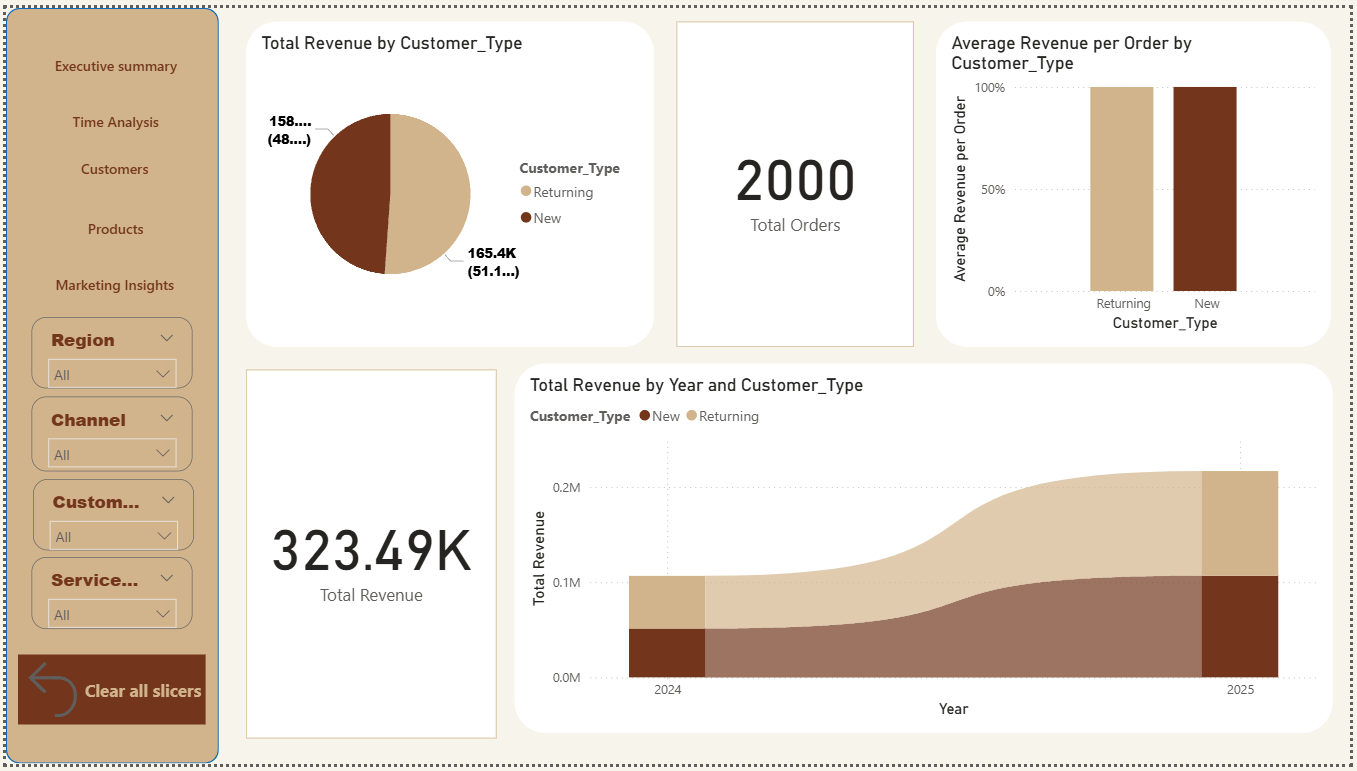

The dashboard page shown, as its layout file describes it:
{"tool":"powerbi","page":{"name":"Page 4","canvas":[1280,720],"ordinal":3},"visuals":[{"type":"shape","box":[0,0,202.6,719.6],"z":0},{"type":"group","id":"g1","title":"Group 2","box":[24,294,154,298],"z":1000},{"type":"actionButton","box":[11.7,615,178.3,66.7],"z":2000},{"type":"group","id":"g2","title":"Group 3","box":[21,25,166,257],"z":3000},{"type":"pieChart","fields":{"Category":["Sheet1.Customer_Type"],"Y":["Sheet1.Total Revenue"]},"box":[228.8,12.5,388.8,310],"z":4000},{"type":"hundredPercentStackedColumnChart","fields":{"Category":["Sheet1.Customer_Type"],"Y":["Sheet1.Average Revenue per Order"]},"box":[886.2,12.5,376.2,310],"z":5000},{"type":"ribbonChart","fields":{"Category":["Sheet1.Date.Variation.Date Hierarchy.Year","Sheet1.Date.Variation.Date Hierarchy.Quarter","Sheet1.Date.Variation.Date Hierarchy.Month","Sheet1.Date.Variation.Date Hierarchy.Day"],"Y":["Sheet1.Total Revenue"],"Series":["Sheet1.Customer_Type"]},"box":[483.6,338.8,779.1,352.2],"z":6000},{"type":"card","fields":{"Values":["Sheet1.Total Revenue"]},"box":[228.8,343.8,238.8,351.2],"z":7000},{"type":"card","fields":{"Values":["Sheet1.Total Orders"]},"box":[638.8,12.5,226.2,310],"z":8000},{"type":"slicer","fields":{"Values":["Sheet1.Region"]},"box":[24,294,153.3,67.8],"z":9000,"group":"g1"},{"type":"slicer","fields":{"Values":["Sheet1.Channel"]},"box":[24,369.6,153.3,71.1],"z":10000,"group":"g1"},{"type":"slicer","fields":{"Values":["Sheet1.Customer_Type"]},"box":[25.1,448.4,153.3,67.8],"z":11000,"group":"g1"},{"type":"slicer","fields":{"Values":["Sheet1.Service_Category"]},"box":[24,522.9,153.3,68.9],"z":12000,"group":"g1"},{"type":"actionButton","box":[22.2,25,164.4,57.8],"z":14000,"group":"g2"},{"type":"actionButton","box":[31.1,82.8,146.7,50],"z":15000,"group":"g2"},{"type":"actionButton","box":[40,132.8,127.8,40],"z":16000,"group":"g2"},{"type":"actionButton","box":[31.1,189.4,146.7,40],"z":17000,"group":"g2"},{"type":"actionButton","box":[21,242.4,165,40],"z":18000,"group":"g2"}]}

Visuals, with their boxes in screenshot pixels (x1, y1, x2, y2), scaled from the page's 1280x720 canvas onto the 1357x771 screenshot:
shape: <region>0, 0, 215, 770</region>
"Group 2" group: <region>25, 315, 189, 634</region>
actionButton: <region>12, 659, 201, 730</region>
"Group 3" group: <region>22, 27, 198, 302</region>
pieChart - Sheet1.Customer_Type x Sheet1.Total Revenue: <region>243, 13, 655, 345</region>
hundredPercentStackedColumnChart - Sheet1.Customer_Type x Sheet1.Average Revenue per Order: <region>940, 13, 1338, 345</region>
ribbonChart - Sheet1.Date.Variation.Date Hierarchy.Year x Sheet1.Date.Variation.Date Hierarchy.Quarter: <region>513, 363, 1339, 740</region>
card - Sheet1.Total Revenue: <region>243, 368, 496, 744</region>
card - Sheet1.Total Orders: <region>677, 13, 917, 345</region>
slicer - Sheet1.Region: <region>25, 315, 188, 387</region>
slicer - Sheet1.Channel: <region>25, 396, 188, 472</region>
slicer - Sheet1.Customer_Type: <region>27, 480, 189, 553</region>
slicer - Sheet1.Service_Category: <region>25, 560, 188, 634</region>
actionButton: <region>24, 27, 198, 89</region>
actionButton: <region>33, 89, 188, 142</region>
actionButton: <region>42, 142, 178, 185</region>
actionButton: <region>33, 203, 188, 246</region>
actionButton: <region>22, 260, 197, 302</region>
